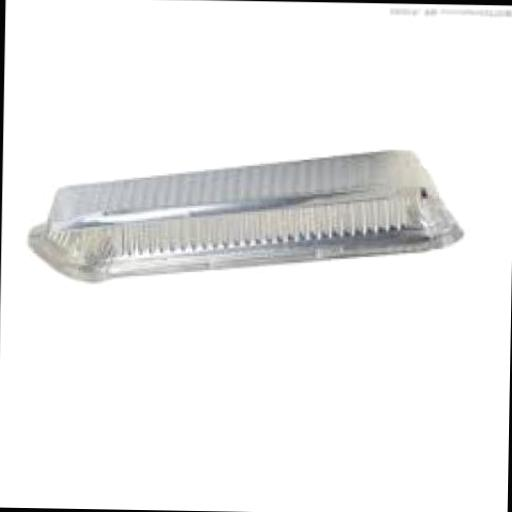metal: (29, 148, 466, 294)
